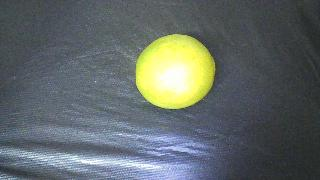LOCAL: (135, 34, 215, 109)
